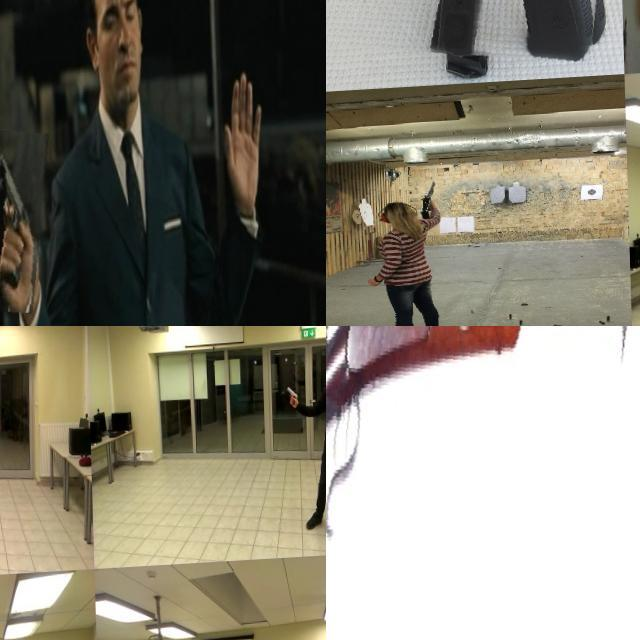gun-knife-thesis - v11 Yolov5 augmented: (326, 326, 640, 640), (326, 0, 611, 142), (0, 132, 46, 317), (416, 180, 434, 219), (279, 384, 297, 416), (0, 410, 11, 442)
